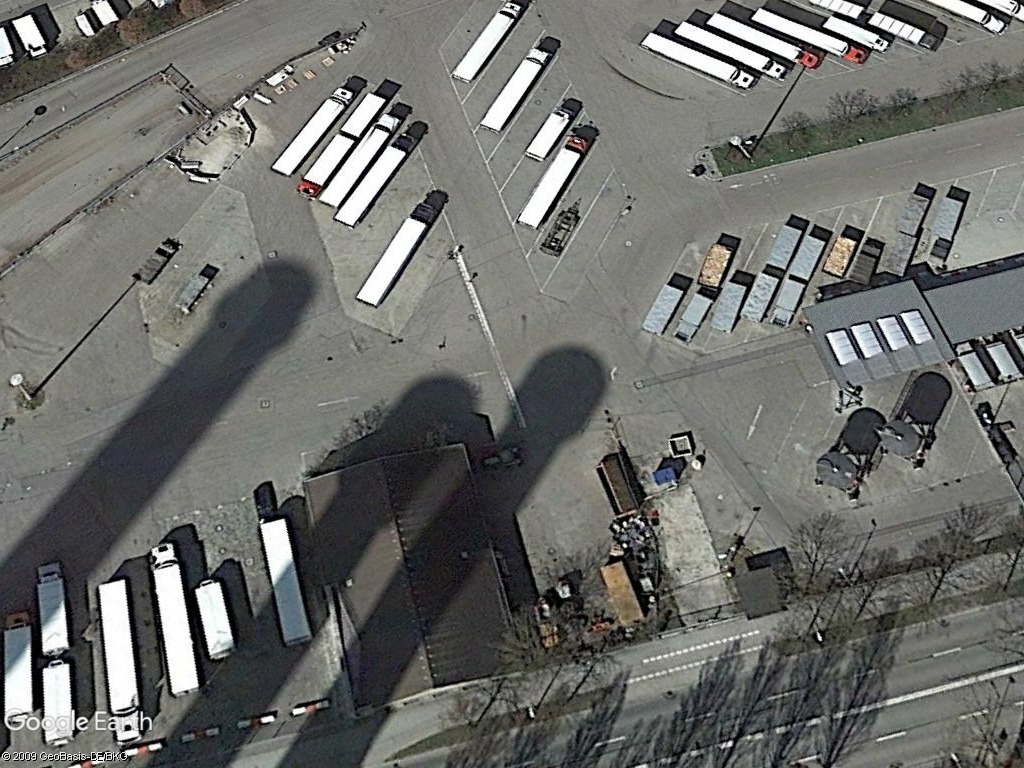longvehicle: (316, 100, 414, 211), (349, 200, 443, 313), (147, 541, 207, 700), (332, 124, 421, 229), (633, 24, 757, 99), (264, 82, 358, 179), (699, 2, 822, 76), (95, 577, 145, 747), (514, 130, 594, 233), (670, 18, 792, 85), (253, 513, 313, 649), (744, 4, 868, 65), (474, 44, 555, 135), (444, 2, 525, 87), (193, 577, 243, 665), (2, 612, 37, 735), (295, 132, 356, 199), (338, 76, 400, 139), (32, 561, 71, 655), (37, 656, 74, 749)
truck: (522, 96, 582, 164), (817, 11, 894, 59), (867, 7, 941, 55), (7, 14, 52, 61)
